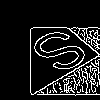S: (25, 25, 100, 83)
